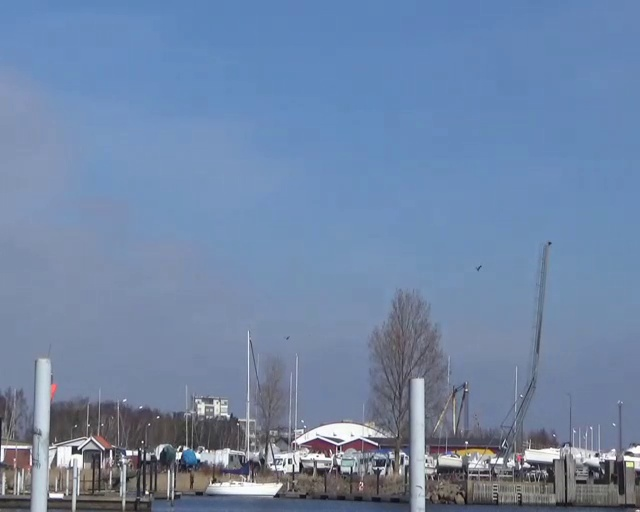BIRD: (475, 263, 483, 272)
